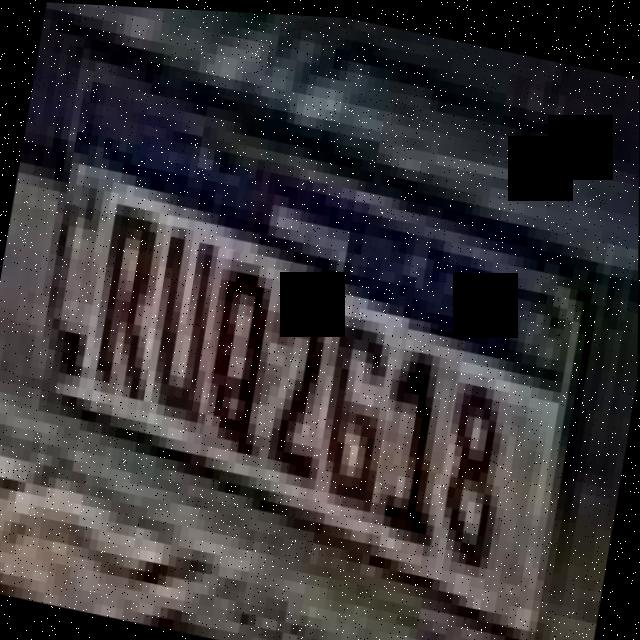1: (368, 316, 465, 555)
8: (426, 354, 523, 577)
G: (308, 299, 409, 516)
Q: (184, 244, 295, 477)
R: (76, 187, 175, 417)
U: (135, 213, 236, 434)
